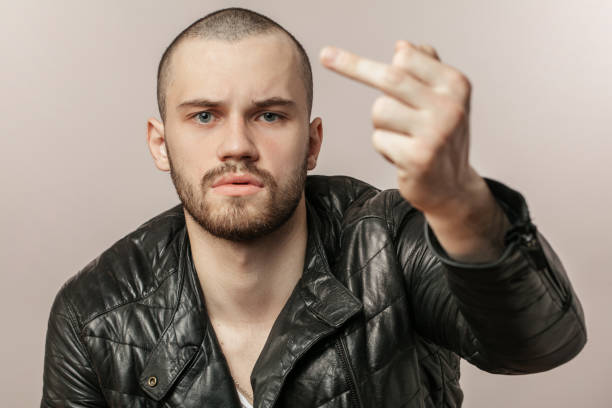insulting_gesture: (316, 32, 473, 187)
